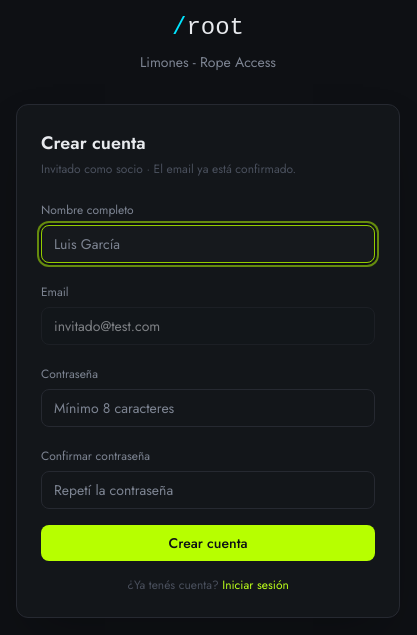
Test: RegistroPage — con invitación válida › crea cuenta exitosa con acceso inmediato (cuenta activa)
Type "María López" into the field with placeholder "Luis García" at (208, 244), box [41,225,375,263]
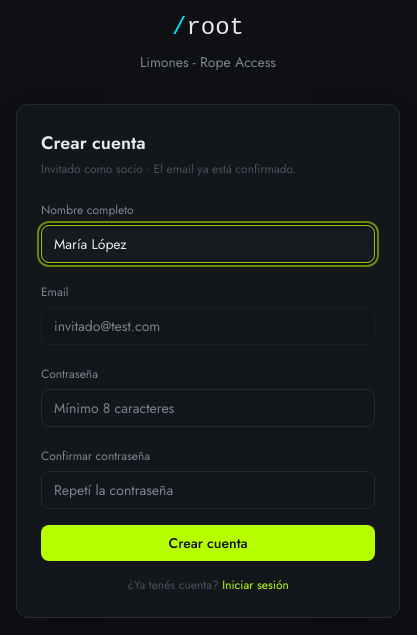
Type "segura1234" into the password field with placeholder "Mínimo 8 caracteres" at (208, 408), box [41,389,375,427]
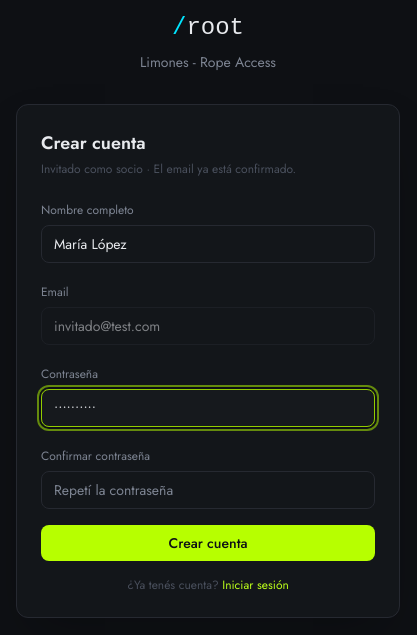
Type "segura1234" into the password field with placeholder "Repetí la contraseña" at (208, 490), box [41,471,375,509]
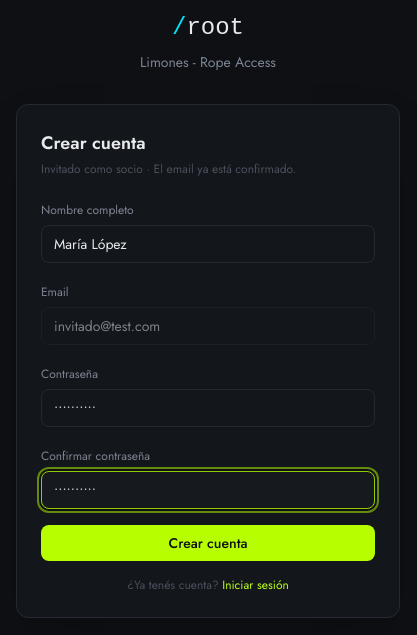
Click the button "Crear cuenta" at (208, 543), box [41,525,375,561]
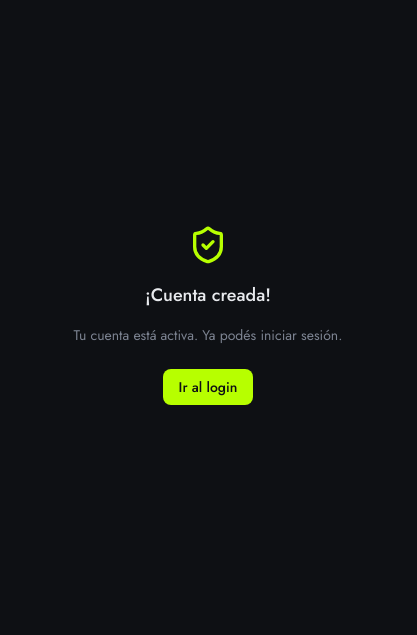
Expected: the text "¡Cuenta creada!" is shown, [145,281,271,309]
Expected: the text "Tu cuenta está activa. Ya podés iniciar sesión." is shown, [74,325,342,345]
